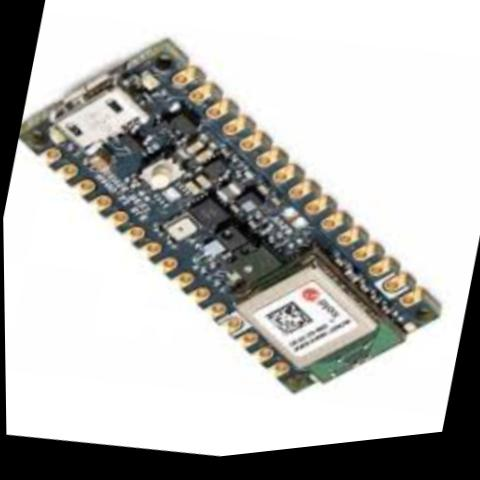Arduino-Nano: (0, 0, 480, 460)
